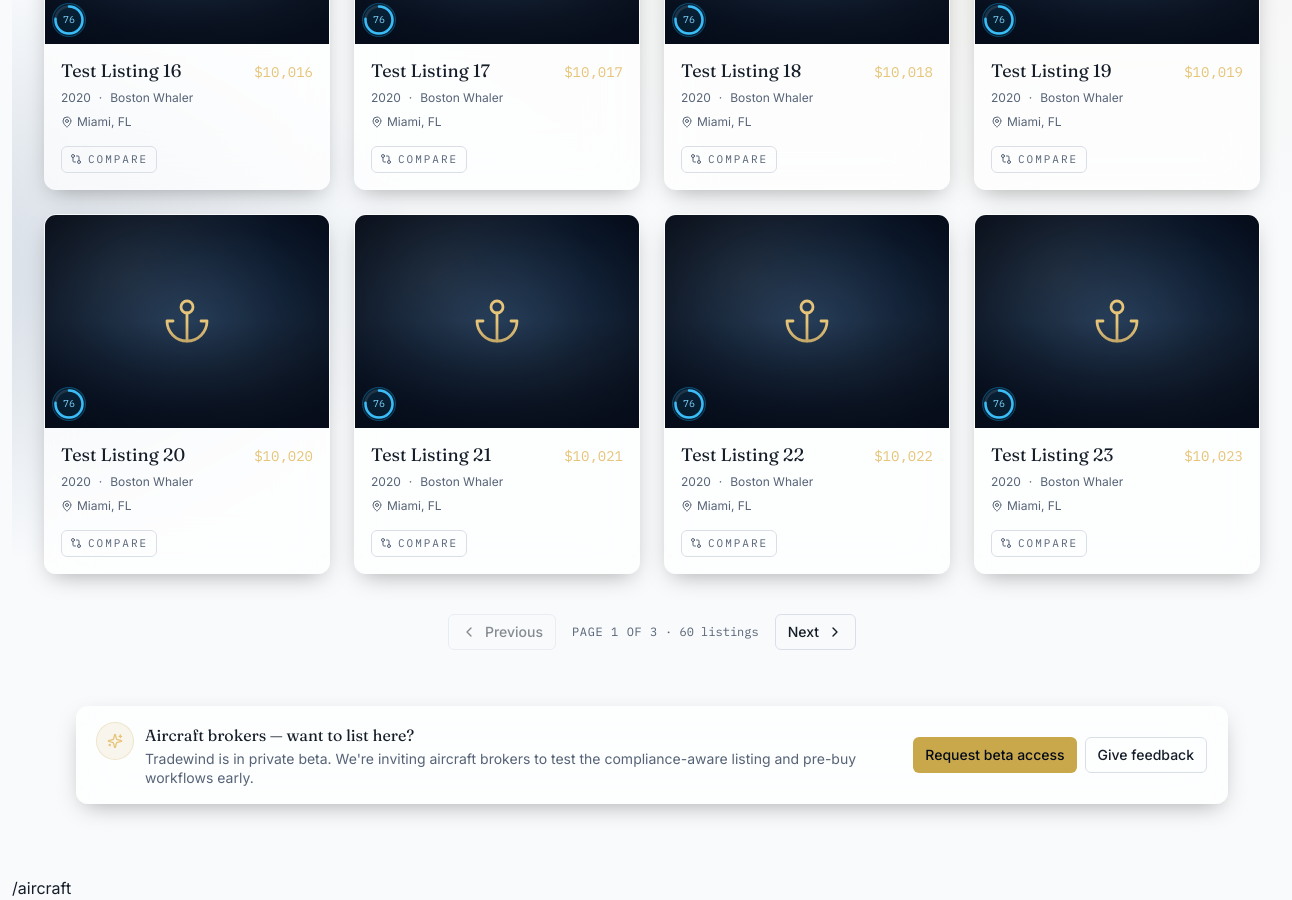
Test: AircraftPage pagination (vertical parity) › advances pages and syncs ?page= to the URL
(page scrolled)
Click the button with aria-label "Next page" at (815, 632), box [775,614,856,650]
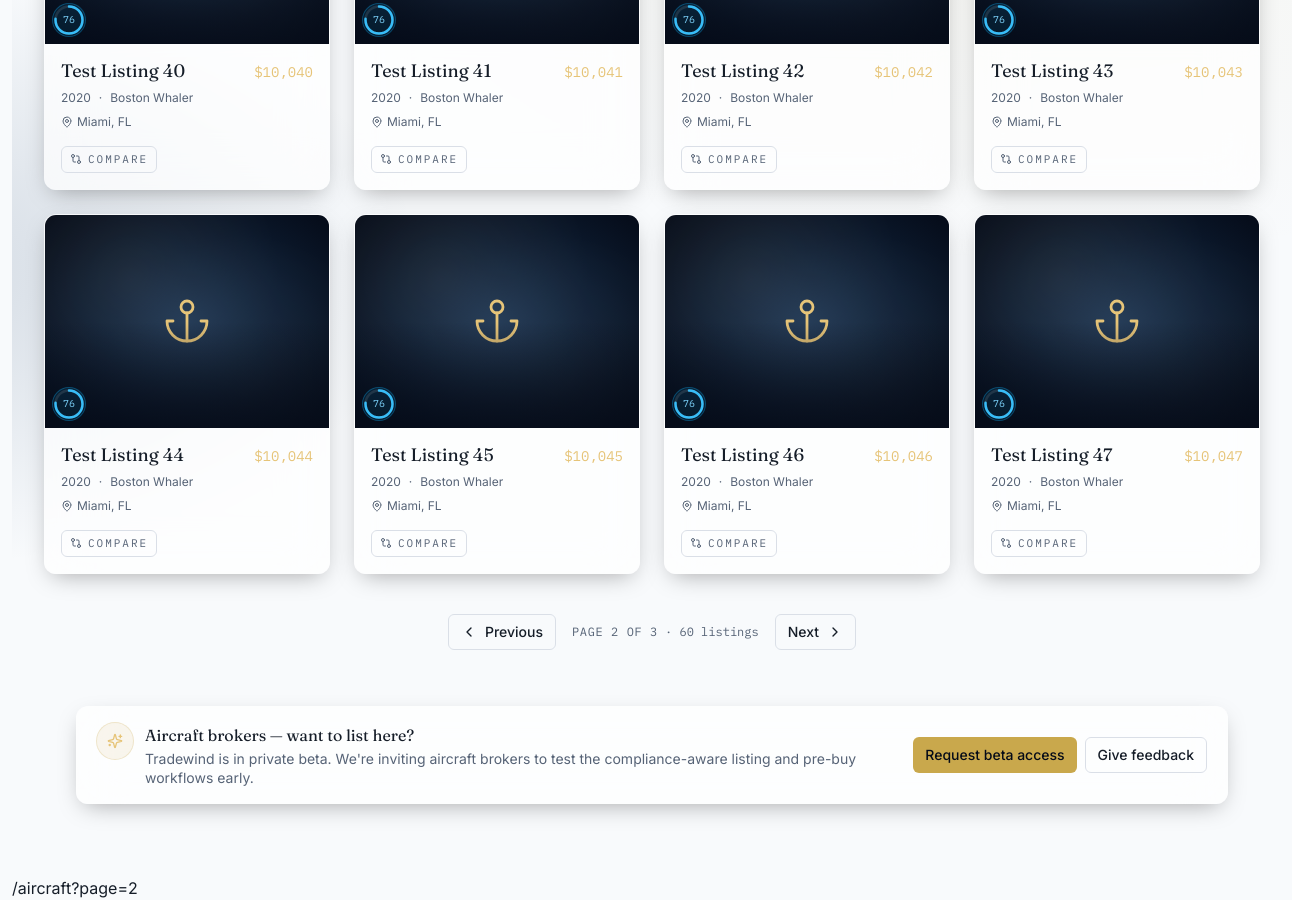
Expected: the text with test id "location" reads "/aircraft?page=2", [12,878,138,898]
